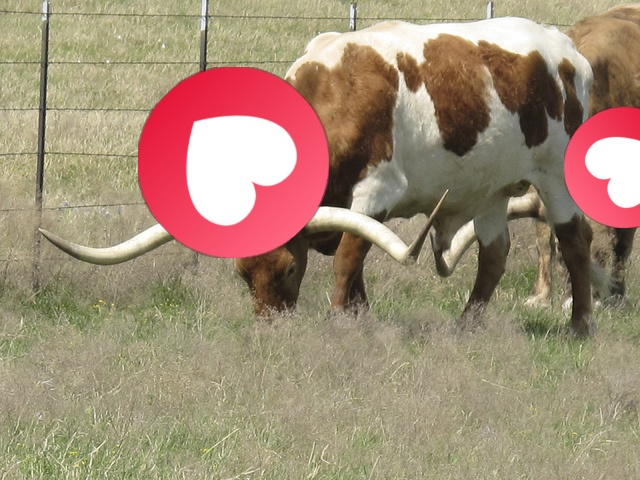love: (138, 67, 329, 258), (564, 107, 640, 228)
